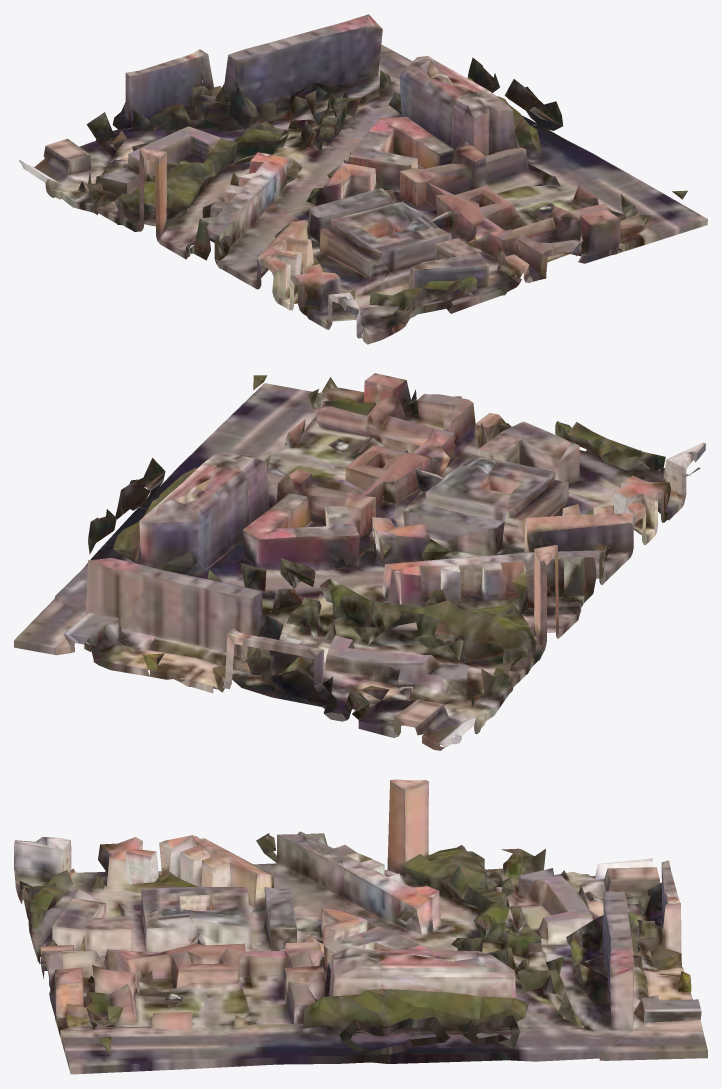
3 renders of one model, top to bottom at view 1: azimuth 30°, elevation 25°; view 2: azimuth 150°, elevation 25°; view 3: azimuth 270°, elevation 25°, orthographic. The views are drawn at different scales.
Parts seen in each view (by area): view 1: Mesh_0; view 2: Mesh_0; view 3: Mesh_0.
Boxes of the visible parts, x1=… form: Mesh_0: x1=19, y1=14, x2=707, y2=344; Mesh_0: x1=14, y1=373, x2=705, y2=750; Mesh_0: x1=14, y1=779, x2=707, y2=1074.
Size of the model in its own units: 270 by 59.29 by 330.
Materials: 2 (2 with a texture image).
